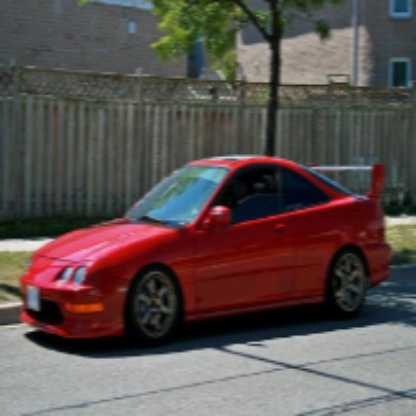Vehicle: (20, 157, 396, 352)
